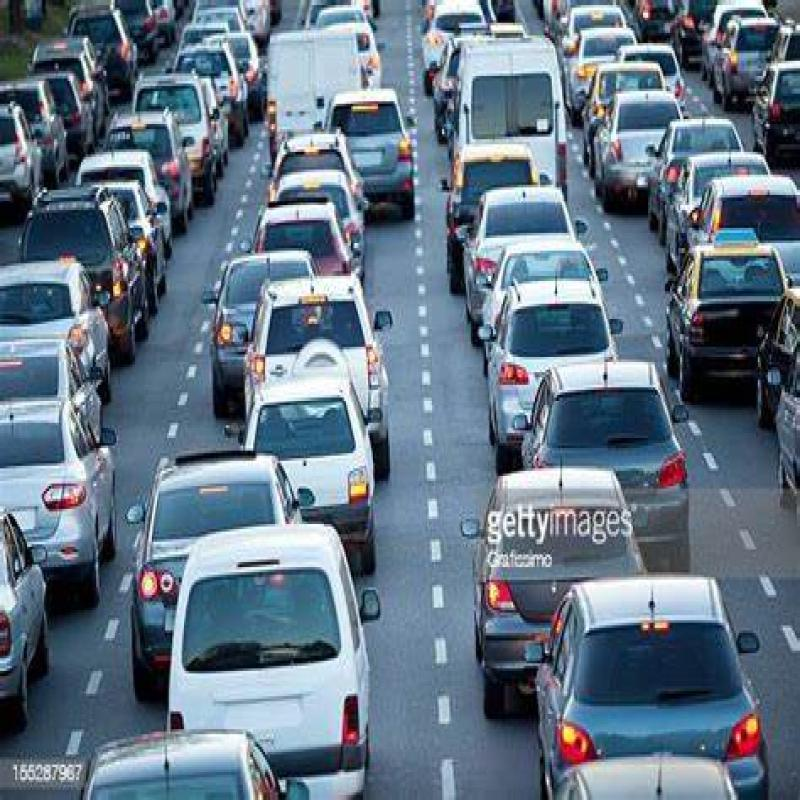car: (169, 540, 391, 778), (470, 469, 681, 691), (542, 597, 739, 800), (524, 361, 736, 510), (230, 388, 422, 535), (248, 275, 389, 432), (17, 353, 115, 574), (493, 281, 612, 427), (324, 85, 433, 214), (31, 178, 134, 312), (216, 237, 313, 358), (463, 186, 571, 263), (602, 102, 680, 197), (280, 171, 364, 251)
